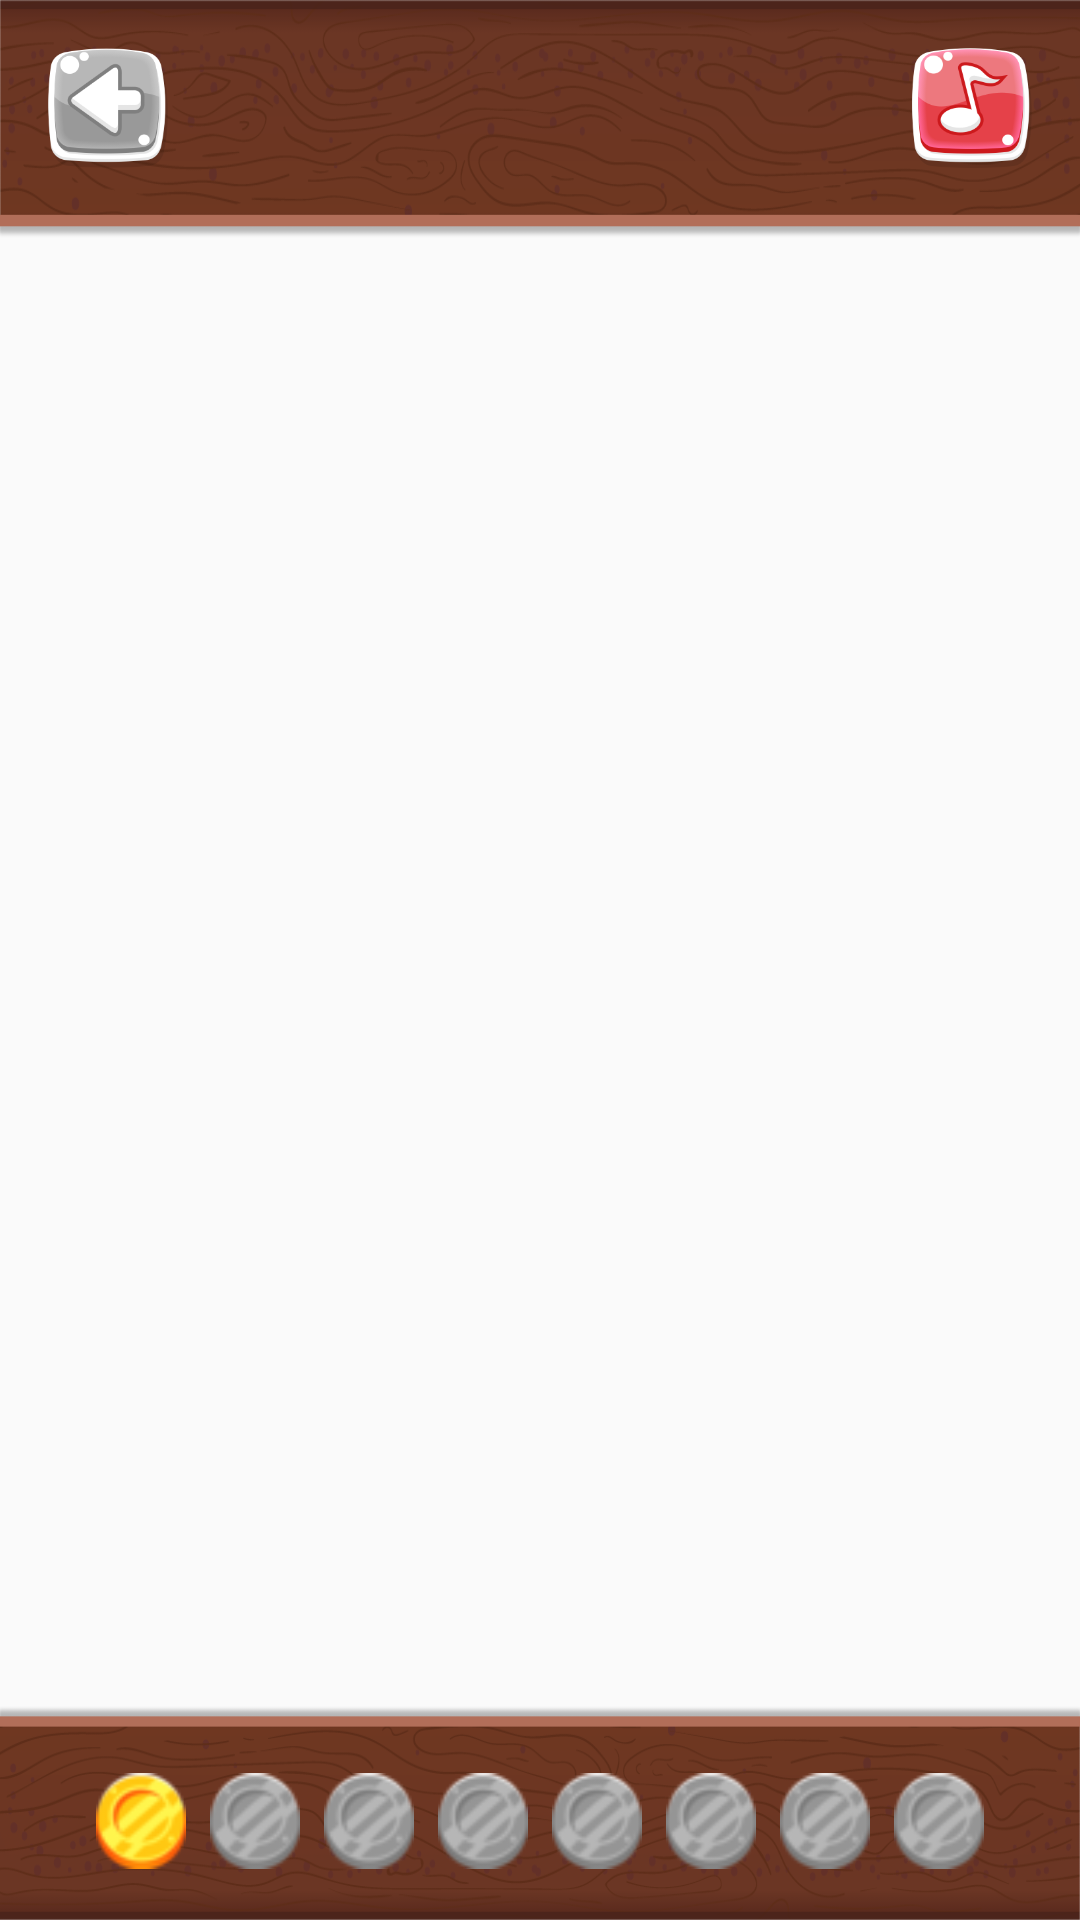

Locate icon controls on the screen. Image size 1080px×1920px, boxes as (left=x1, top=y1, right=x2, bottom=y2).
back: (left=48, top=48, right=166, bottom=165)
coin: (left=96, top=1773, right=186, bottom=1869), (left=210, top=1773, right=300, bottom=1869), (left=324, top=1773, right=414, bottom=1869), (left=438, top=1773, right=528, bottom=1869), (left=552, top=1773, right=642, bottom=1869), (left=666, top=1773, right=756, bottom=1869), (left=780, top=1773, right=870, bottom=1869), (left=894, top=1773, right=984, bottom=1869)
music on: (left=912, top=48, right=1030, bottom=162)
